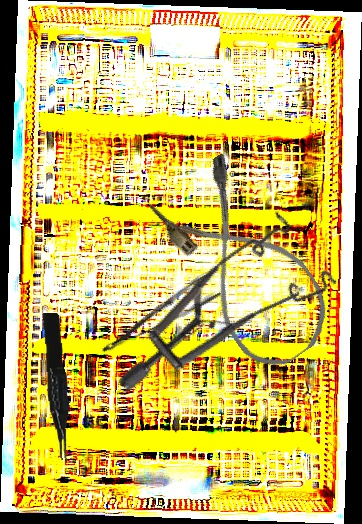Cannula: (144, 149, 345, 381)
Dressing Forceps: (90, 270, 223, 356)
Speculum: (114, 180, 356, 454)
Tissue Forceps: (42, 312, 71, 461)
